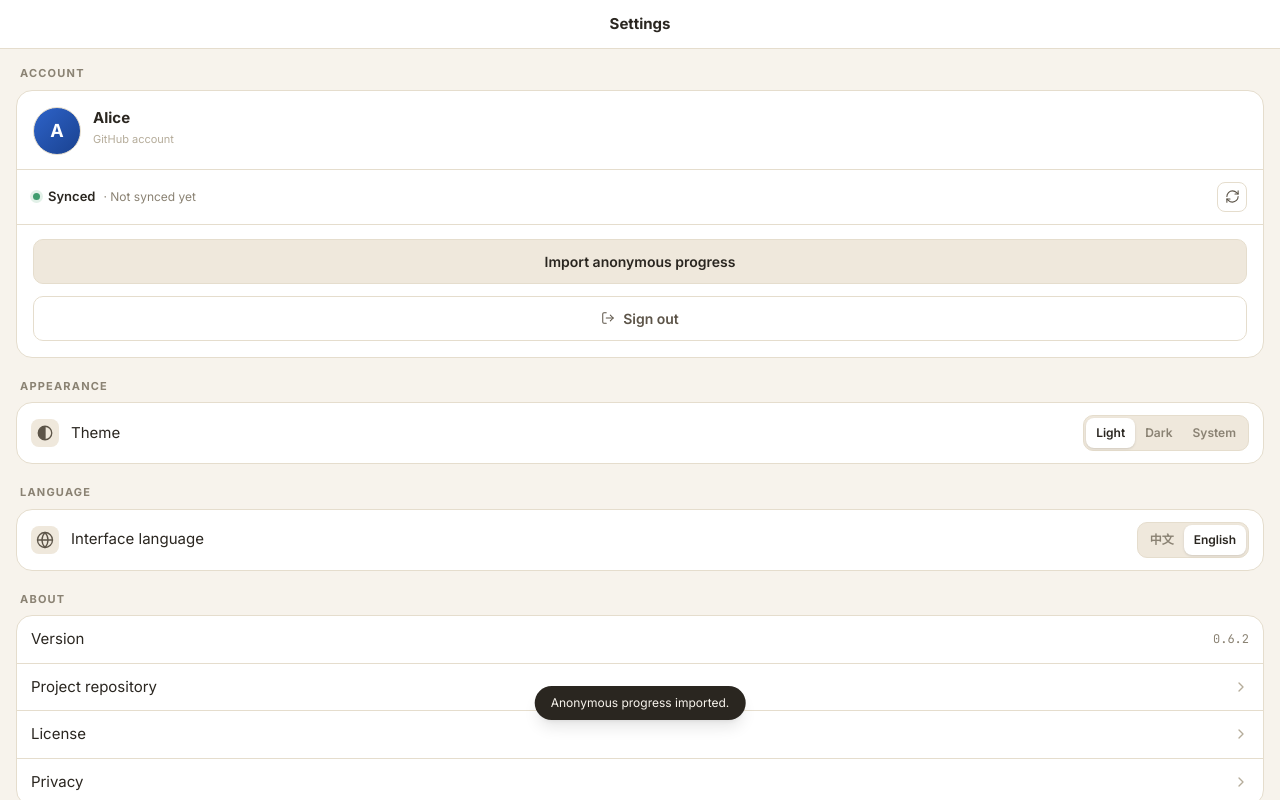
it: SettingsPage account UI › shows concise failure feedback when manual anonymous progress import fails
Click the button "Import anonymous progress": {"x": 640, "y": 261} [33,238,1247,284]
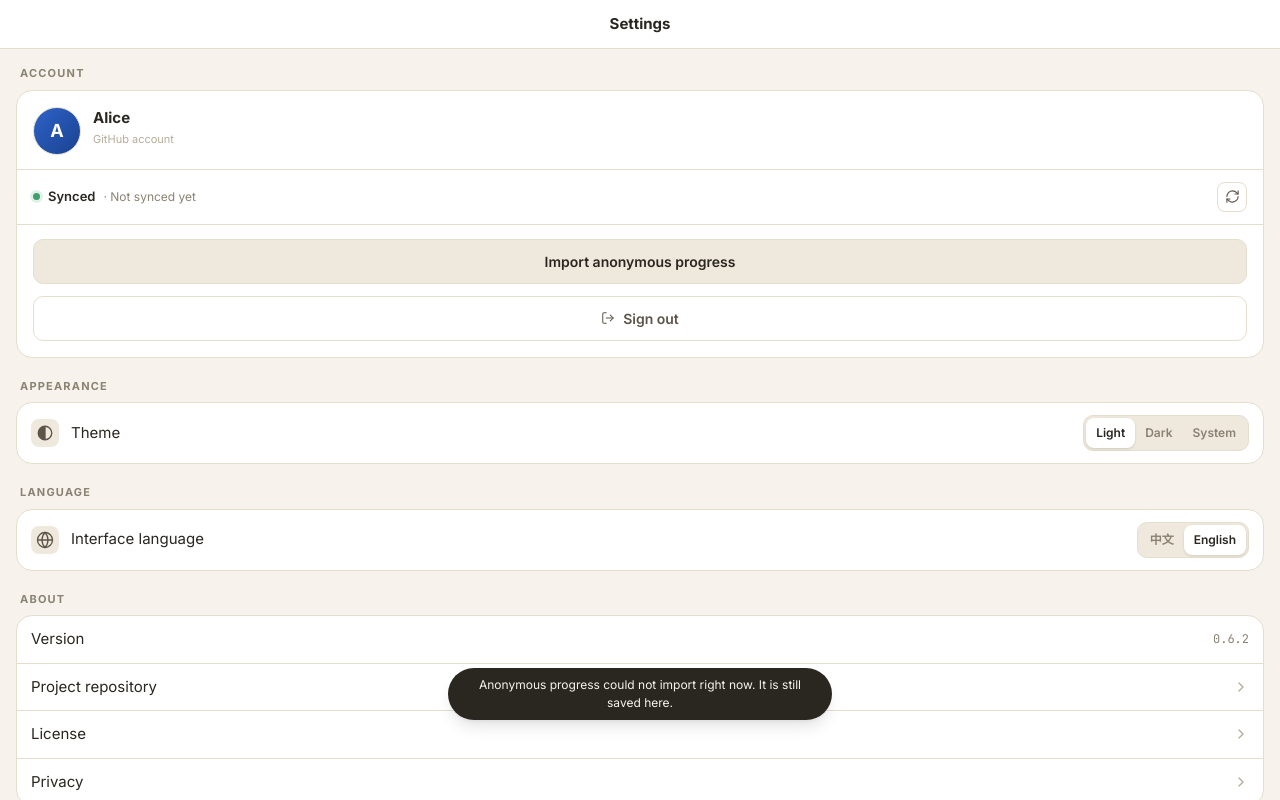
Now the message reads "Anonymous progress could not import right now. It is still saved here.", box [479,677,801,710]
